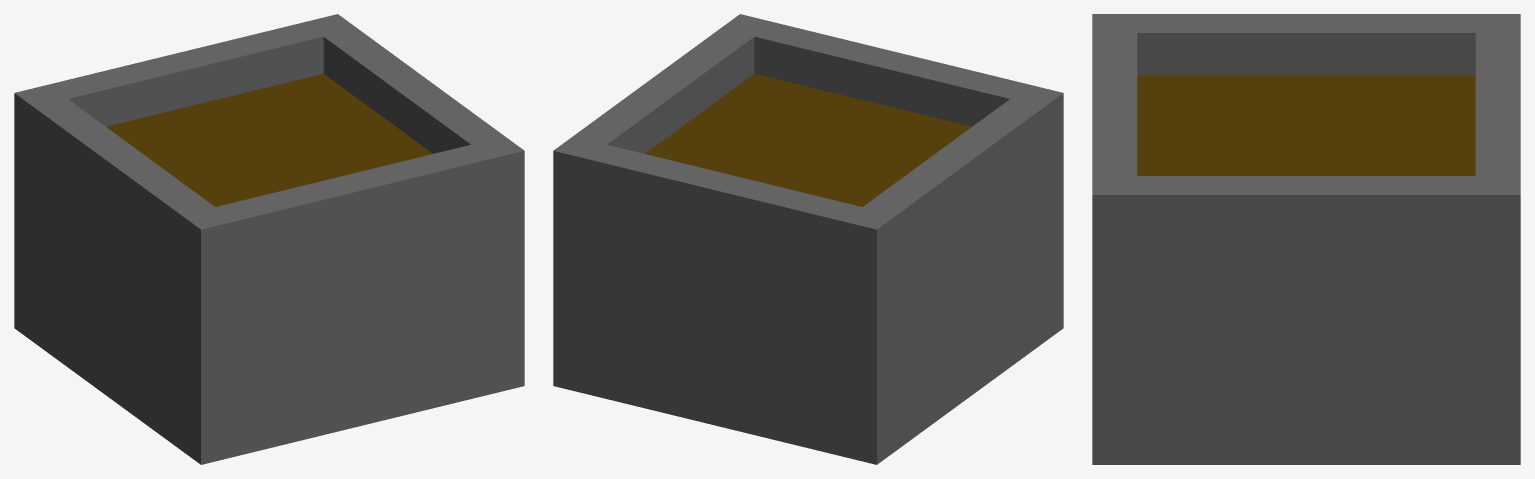
File: boombak.fbx
3 views of the same model, side by side, from view 1: azimuth 30°, elevation 25°; view 2: azimuth 150°, elevation 25°; view 3: azimuth 270°, elevation 25° (orthographic). The views are drawn at different scales.
Visible parts, largest first — view 1: Cube; view 2: Cube; view 3: Cube.
Boxes of the visible parts, x1=… form: Cube: x1=14, y1=14, x2=524, y2=464; Cube: x1=553, y1=14, x2=1063, y2=464; Cube: x1=1092, y1=14, x2=1520, y2=464.
Bounding box in the file's own units: 200 × 139 × 200.
